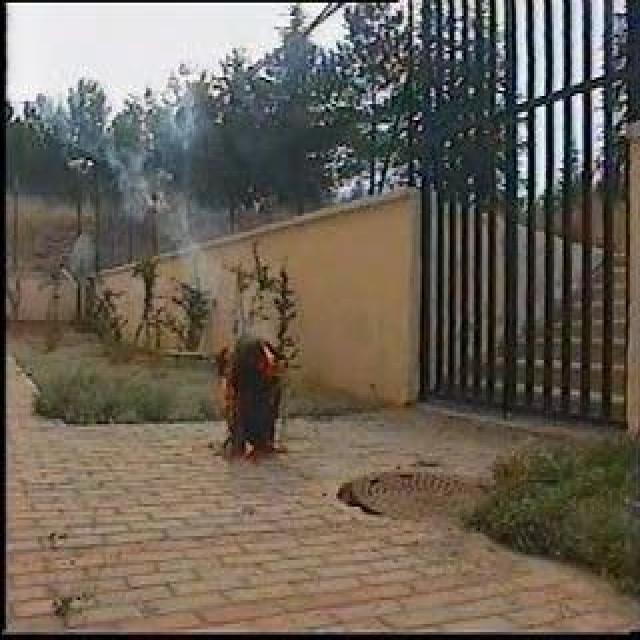fire: (254, 334, 284, 374)
smoke: (104, 93, 188, 224)
